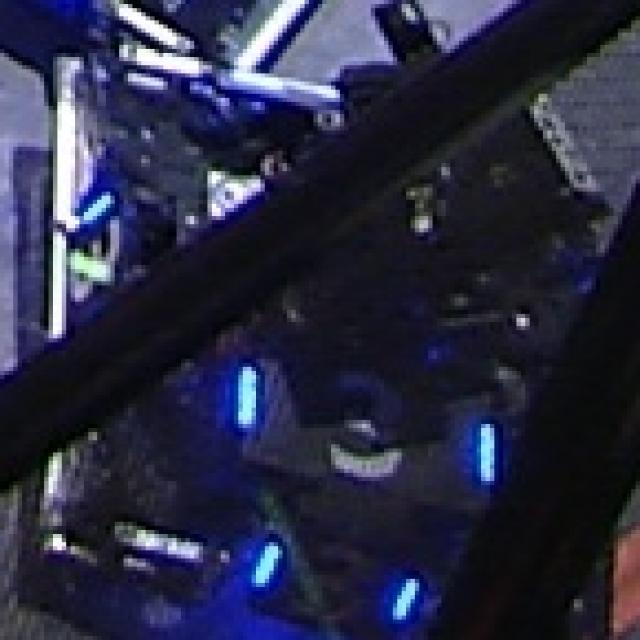B3: (247, 538, 424, 628)
